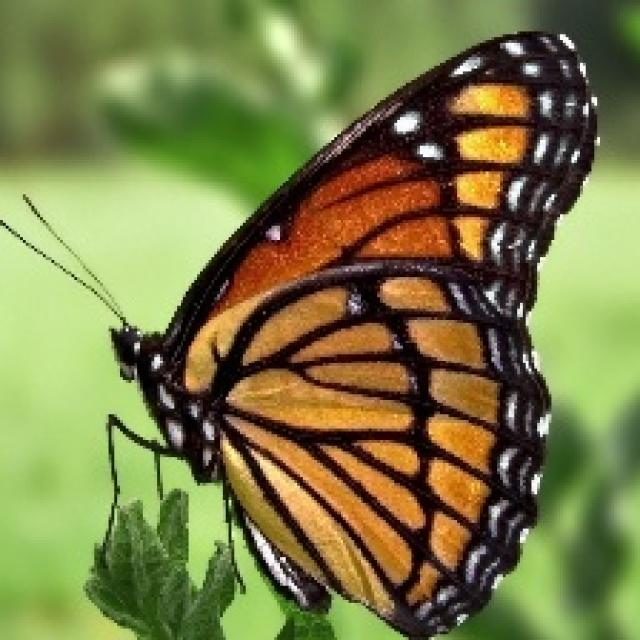butterfly: (0, 26, 600, 637)
